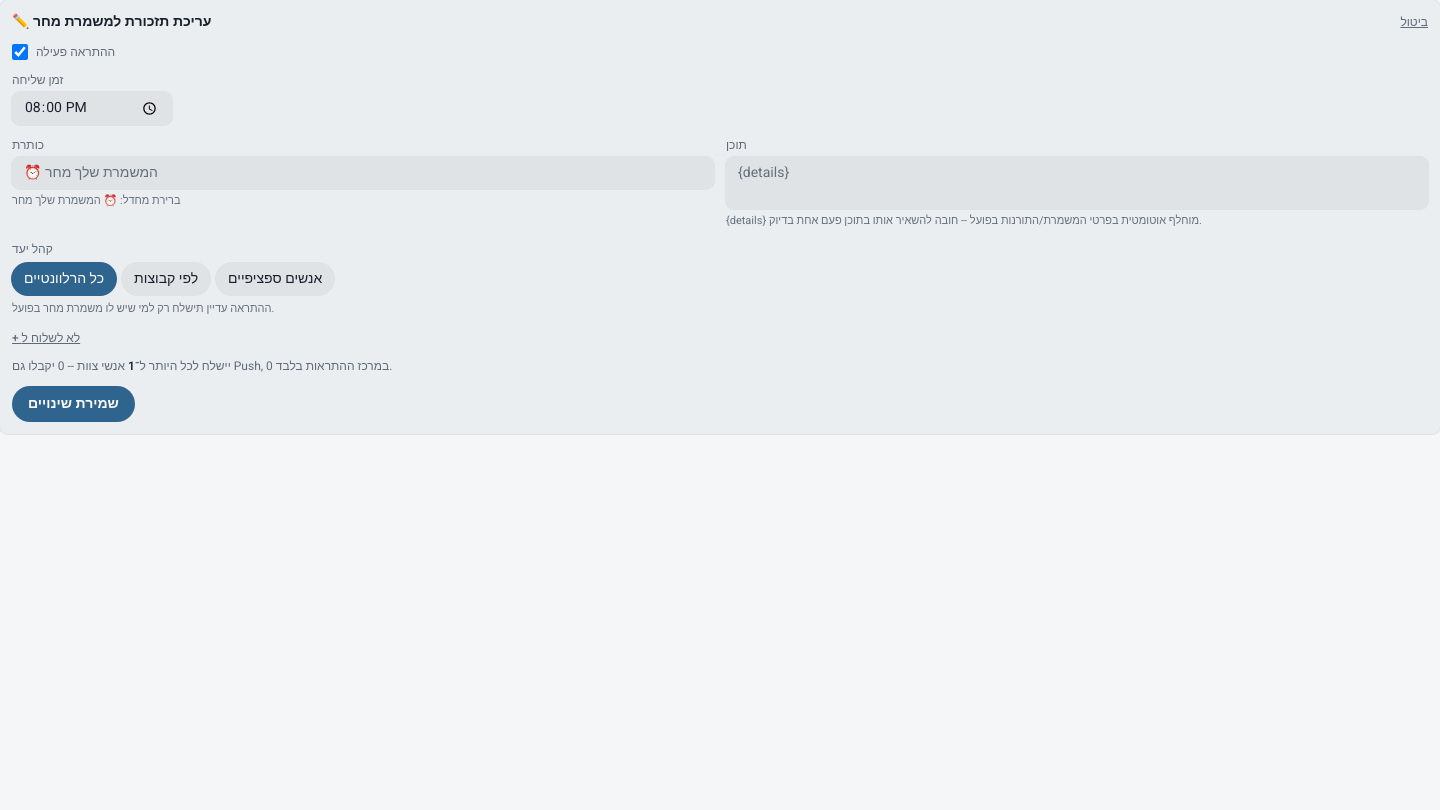
Test case: ManagerSystemRuleEditor -- 'לא לשלוח ל' expand/collapse toggle › clicking the toggle again while expanded collapses it and hides the picker
Click the button "+ לא לשלוח ל" at (46, 338), box 12,330 -> 80,346
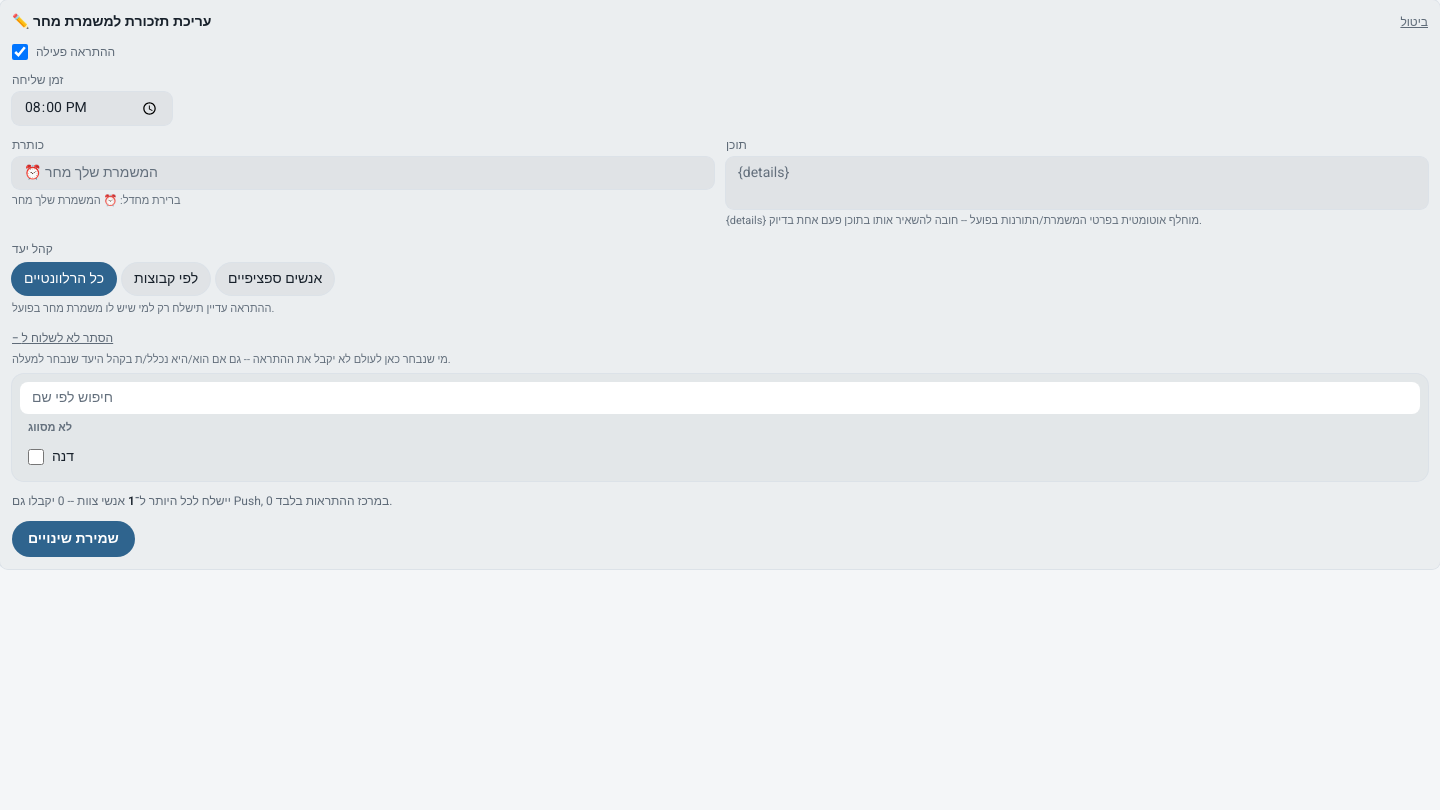
Expected: the search field named "חיפוש איש/אשת צוות" is shown, 20,382 -> 1420,414
Click the button "− הסתר לא לשלוח ל" at (63, 338), box 12,330 -> 113,346
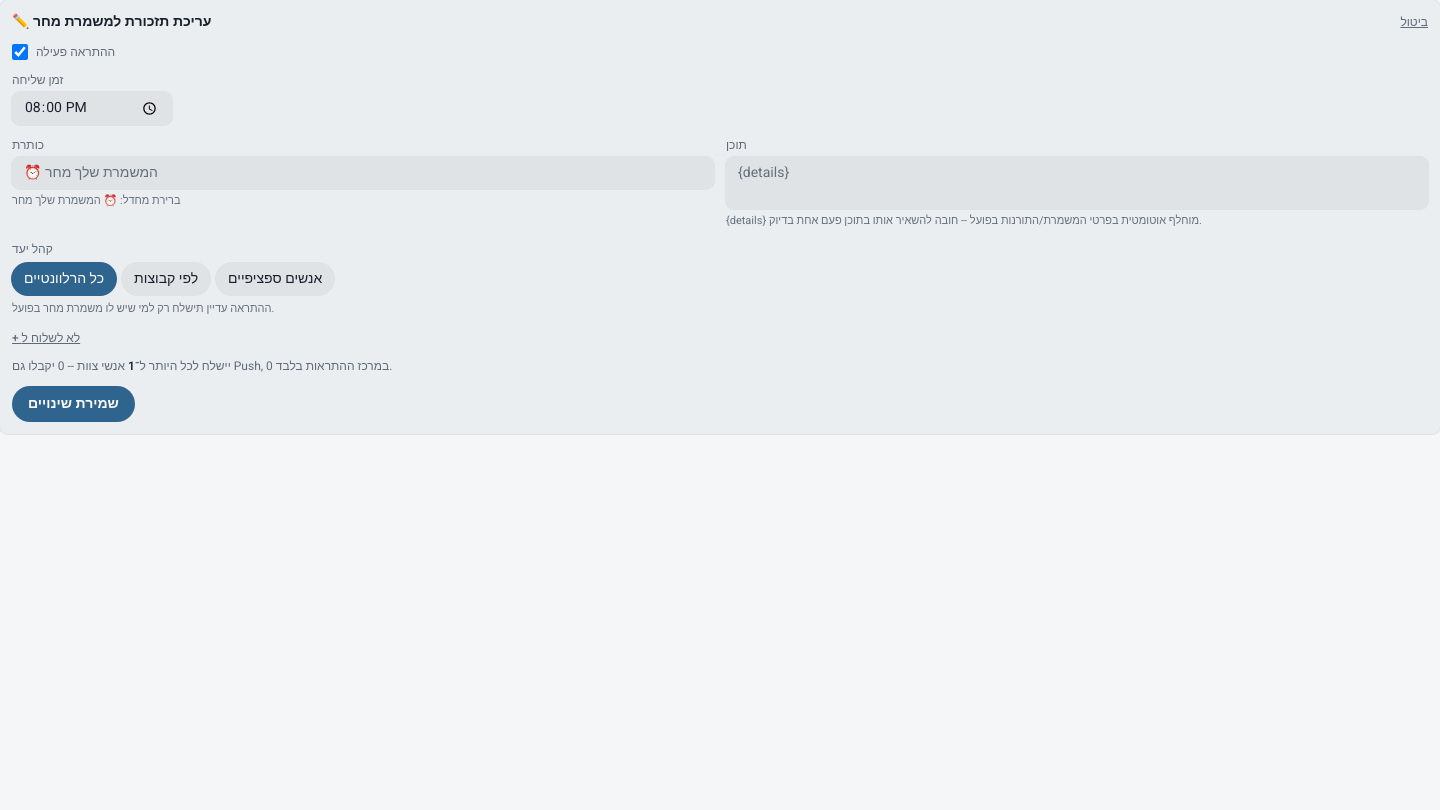
Expected: the button "+ לא לשלוח ל" is shown, 12,330 -> 80,346
